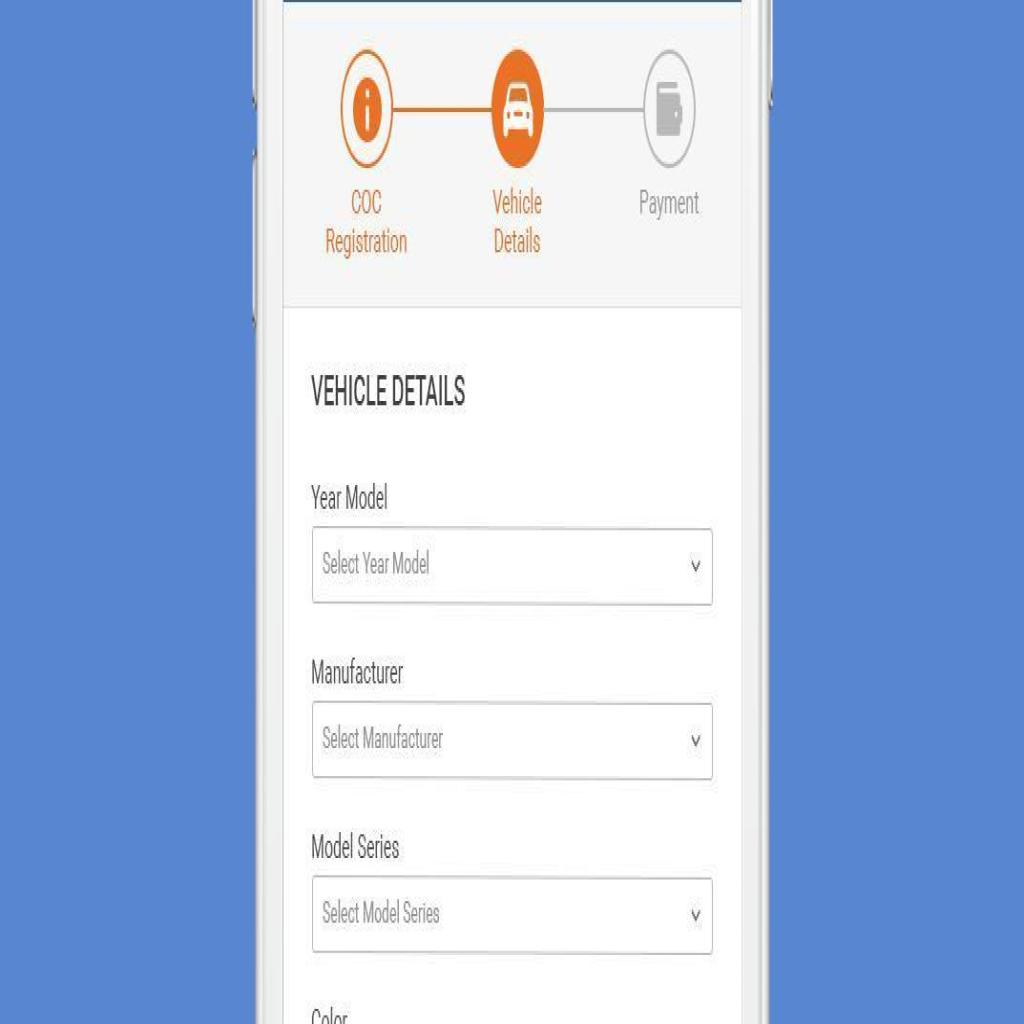dropdown: (310, 875, 713, 957), (313, 703, 714, 780), (311, 526, 712, 601)
icon: (649, 69, 688, 147), (501, 73, 537, 147), (349, 74, 384, 144)
label: (322, 174, 414, 270), (303, 362, 479, 412), (474, 172, 560, 268), (304, 823, 410, 871), (308, 649, 412, 690), (309, 472, 394, 520), (630, 181, 706, 224)
